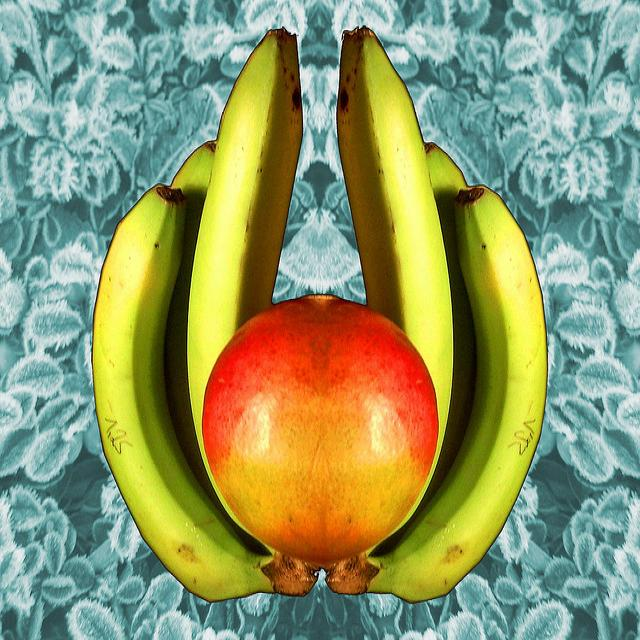banana: (328, 30, 549, 605), (99, 28, 306, 608)
